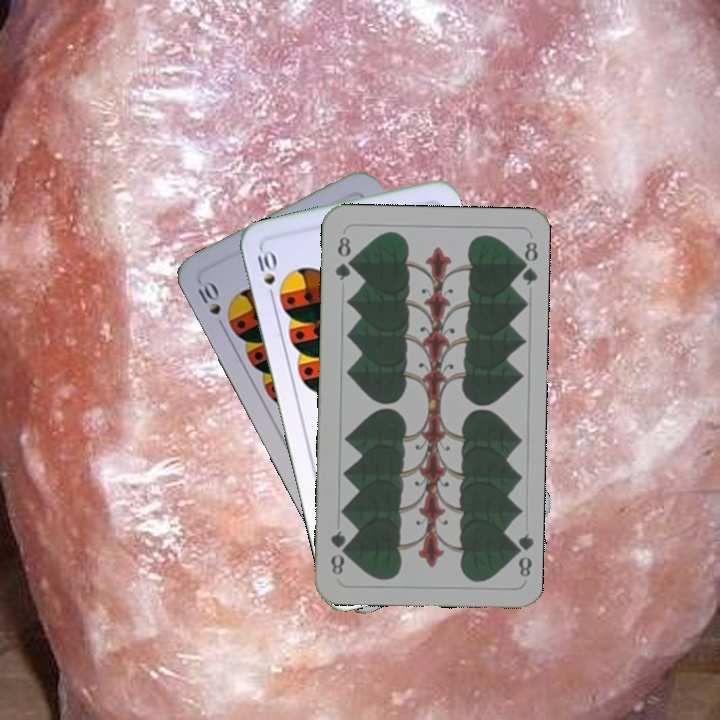G8: (507, 529, 535, 579), (331, 232, 355, 283)
S10: (193, 277, 228, 333), (253, 245, 278, 304)
